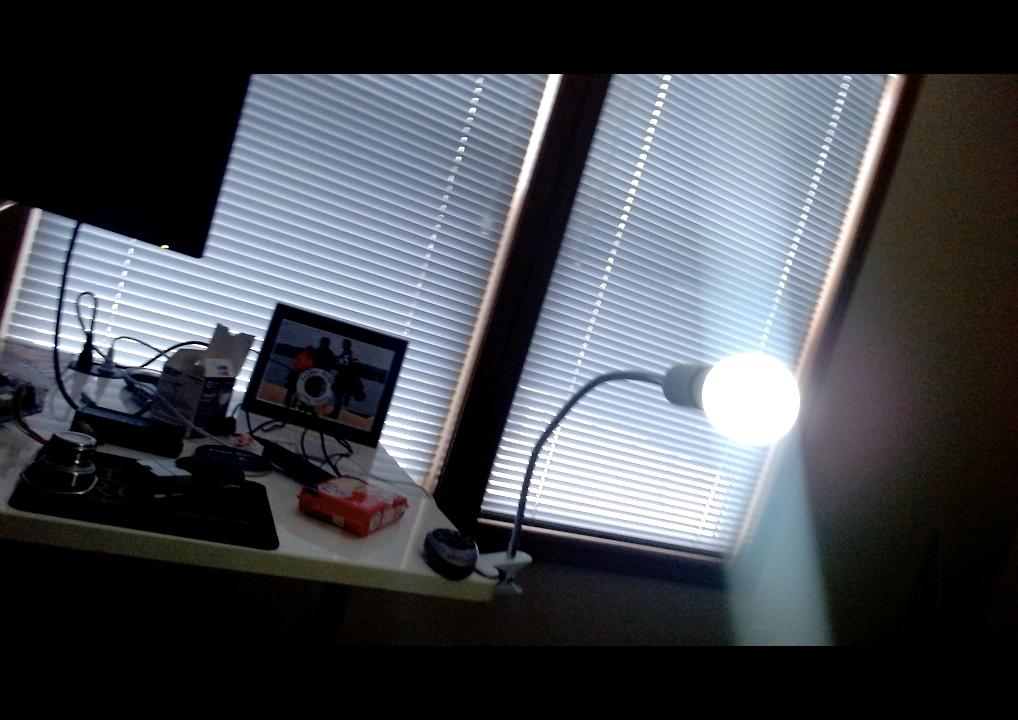TubeLight: (693, 348, 798, 445)
